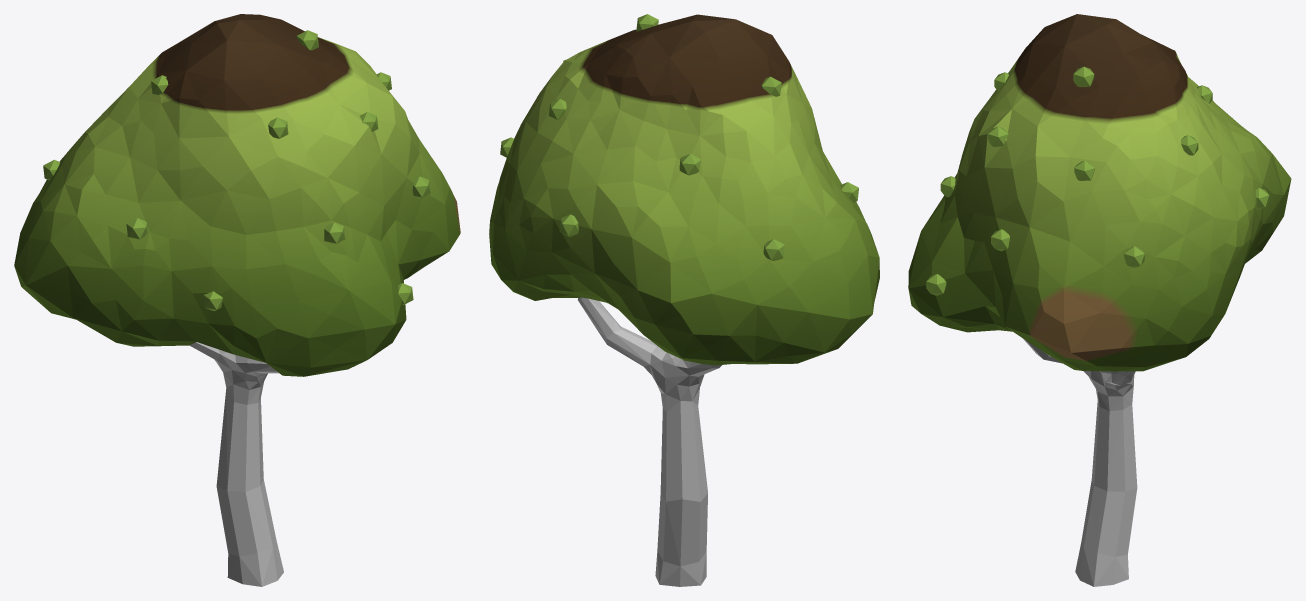
The model's file is Tree_03.fbx.
3 views of the same model, side by side, from view 1: azimuth 30°, elevation 25°; view 2: azimuth 150°, elevation 25°; view 3: azimuth 270°, elevation 25° (orthographic). The views are drawn at different scales.
Parts seen in each view (by area): view 1: Tree_03; view 2: Tree_03; view 3: Tree_03.
Part boxes in pixels (x1=…): Tree_03: x1=14, y1=14, x2=460, y2=586; Tree_03: x1=489, y1=14, x2=879, y2=586; Tree_03: x1=908, y1=14, x2=1291, y2=586.
Bounding box in the file's own units: 3.71 × 5.02 × 3.2.
